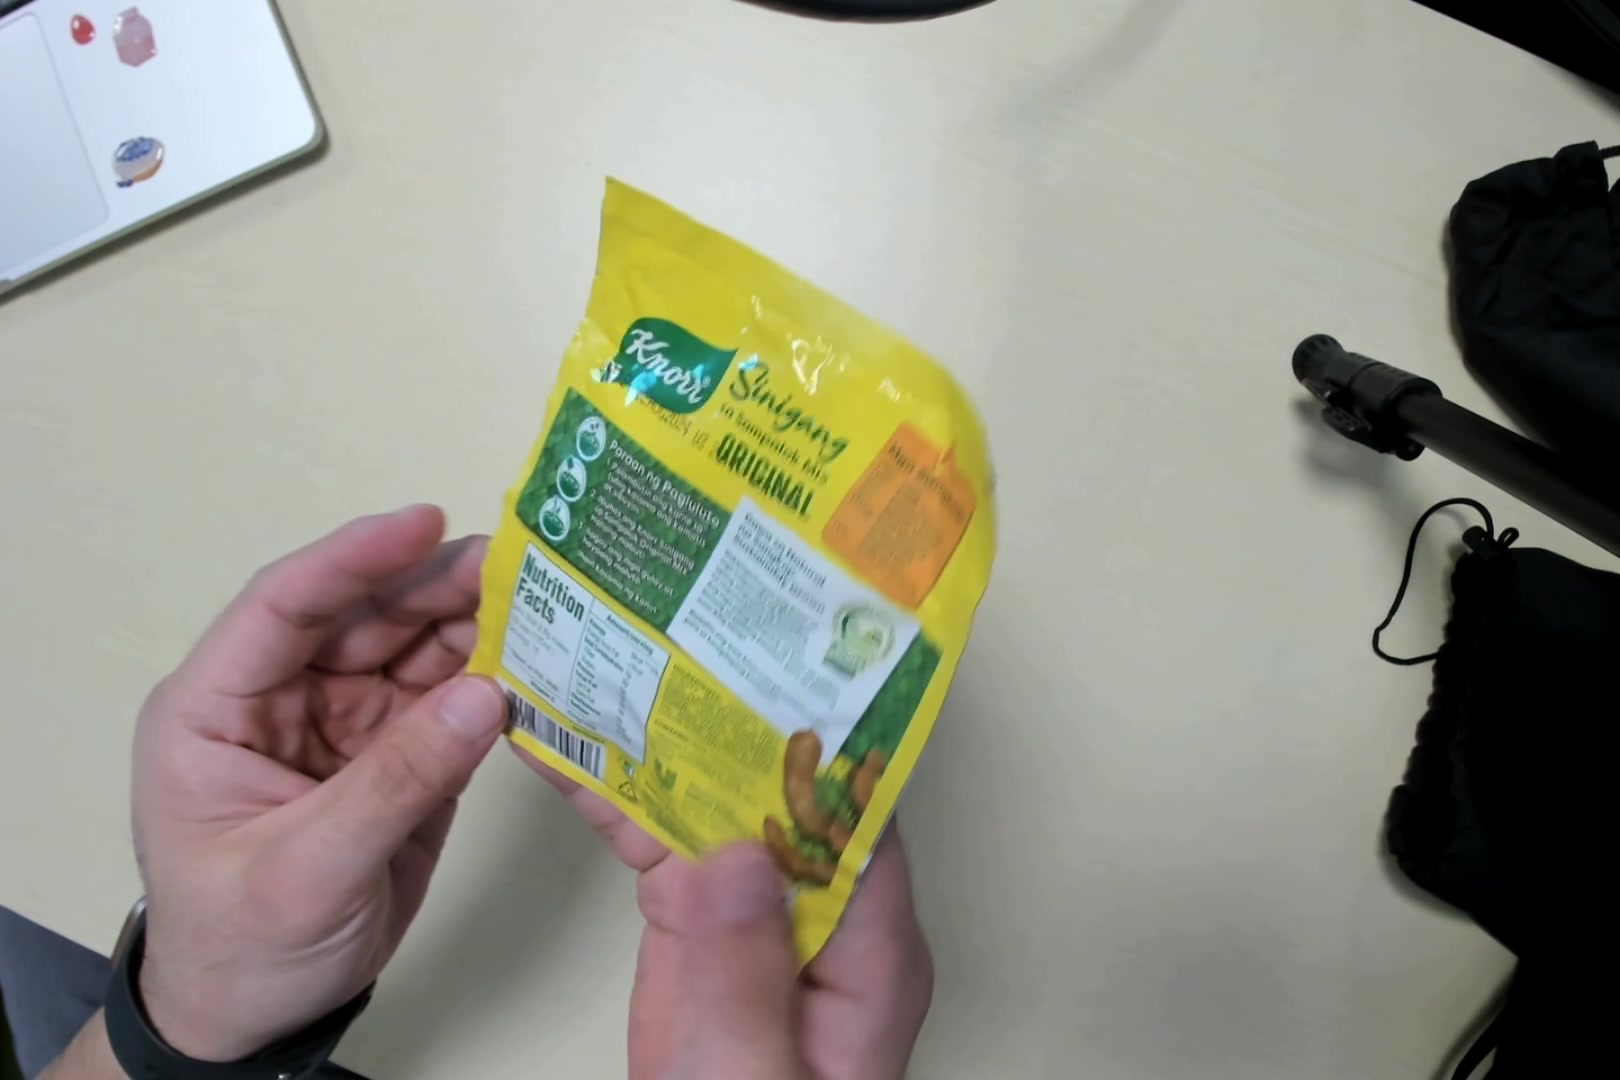SoupStock_0-99g_NonHalal_NonHealthy: (477, 198, 986, 974)
